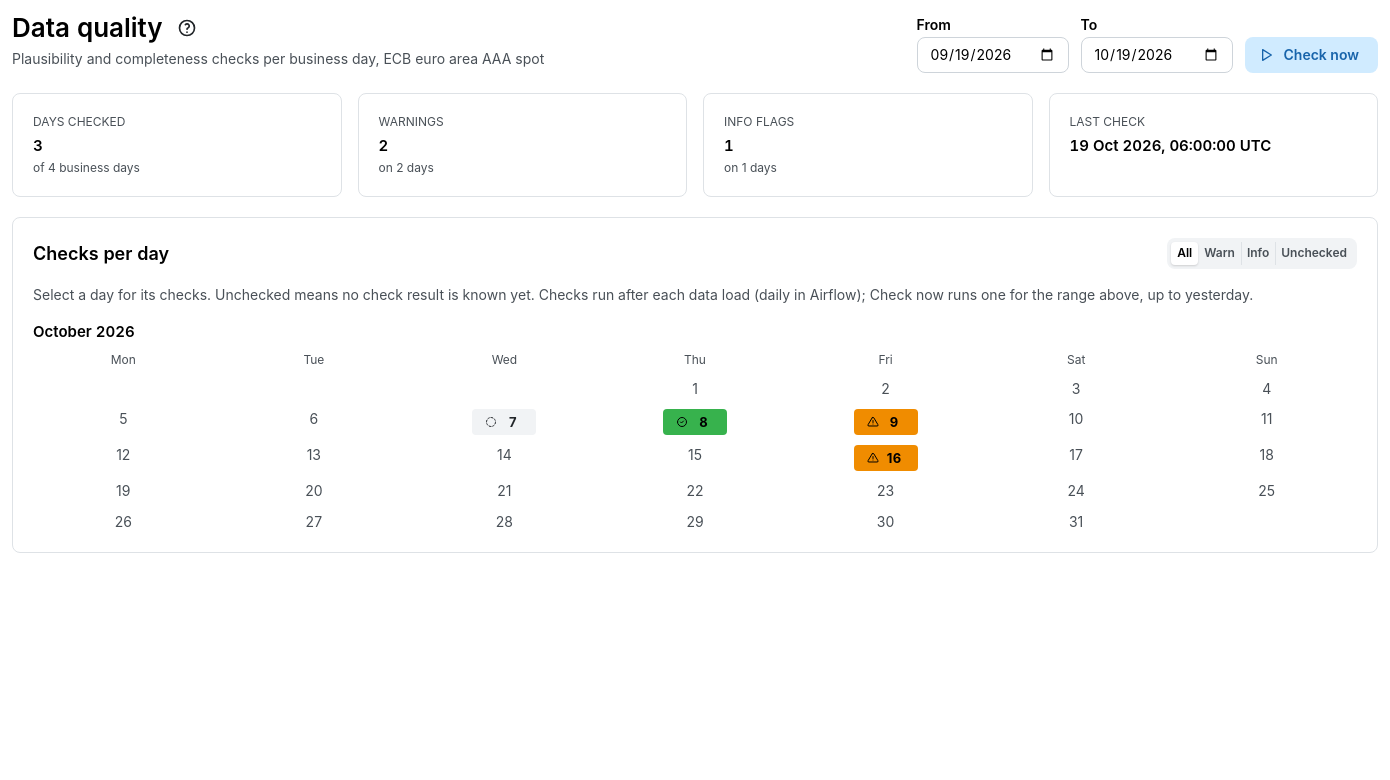
Test: QualityView › filter Warn keeps warn days as badges; no match shows the filter empty state and Show all days restores
expect the button named "2026-10-16, Warn" is shown: met, box [854, 445, 918, 471]
Click the radio button labelled "Warn" at [1220, 253], box [1204, 245, 1235, 260]
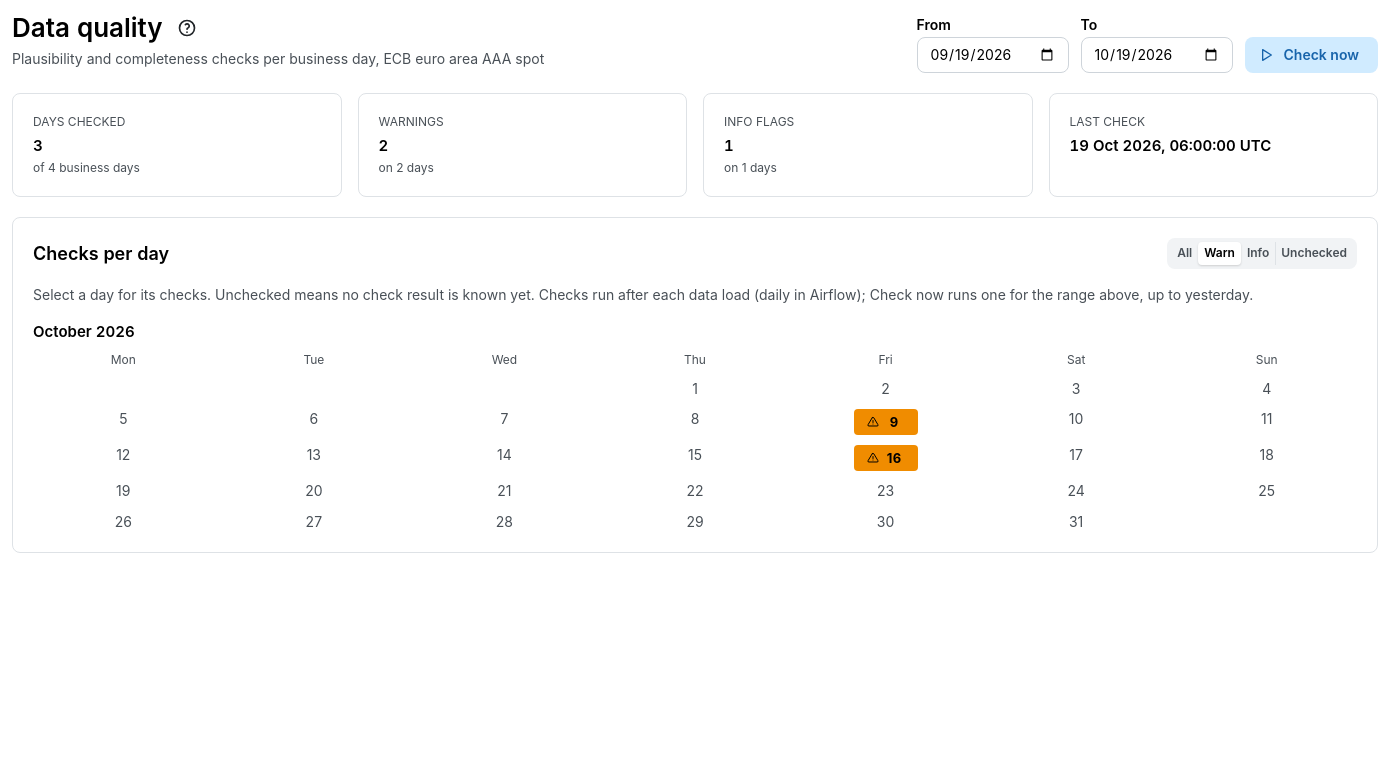
Click the radio button labelled "Info" at [1258, 253], box [1247, 245, 1269, 260]
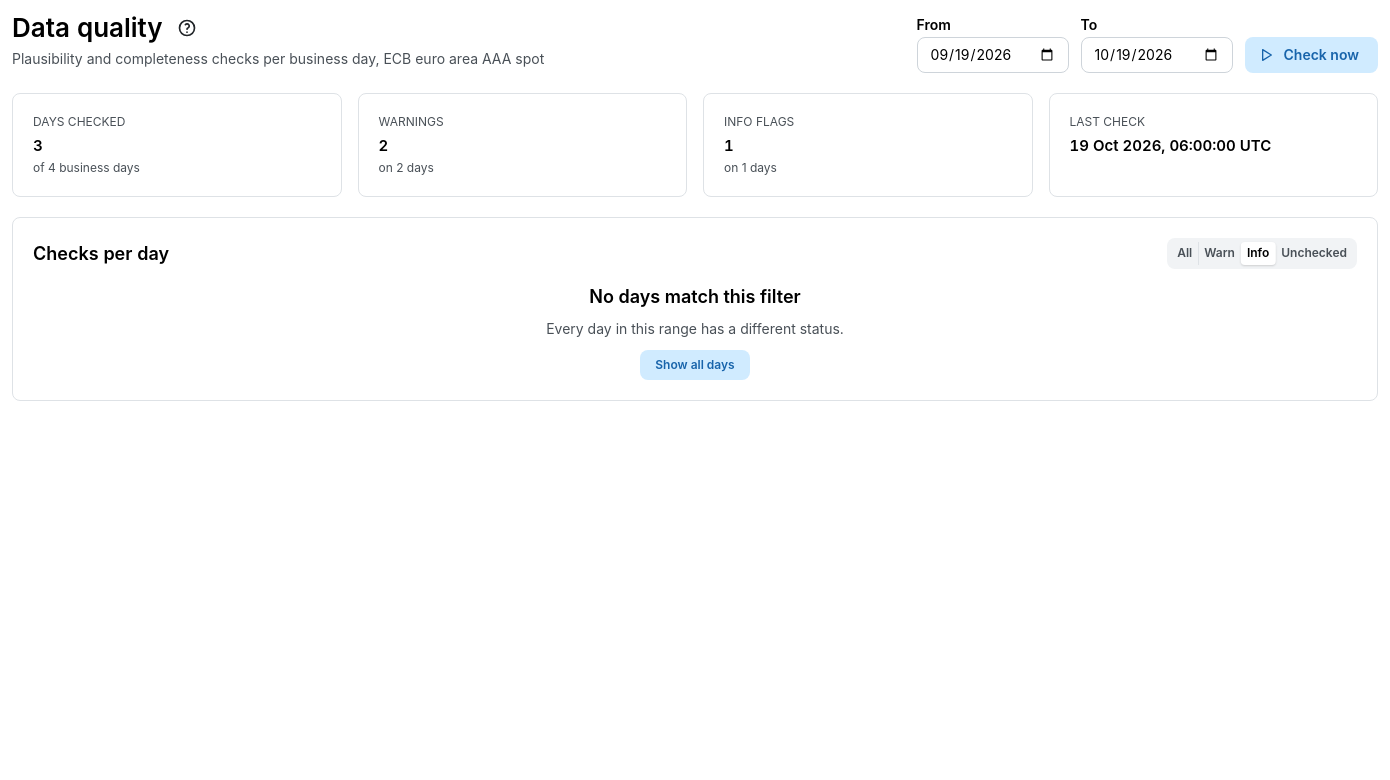
expect the message shows "No days match this filter": met, box [589, 286, 801, 307]
Click the button "Show all days" at [695, 365], box [640, 350, 750, 380]
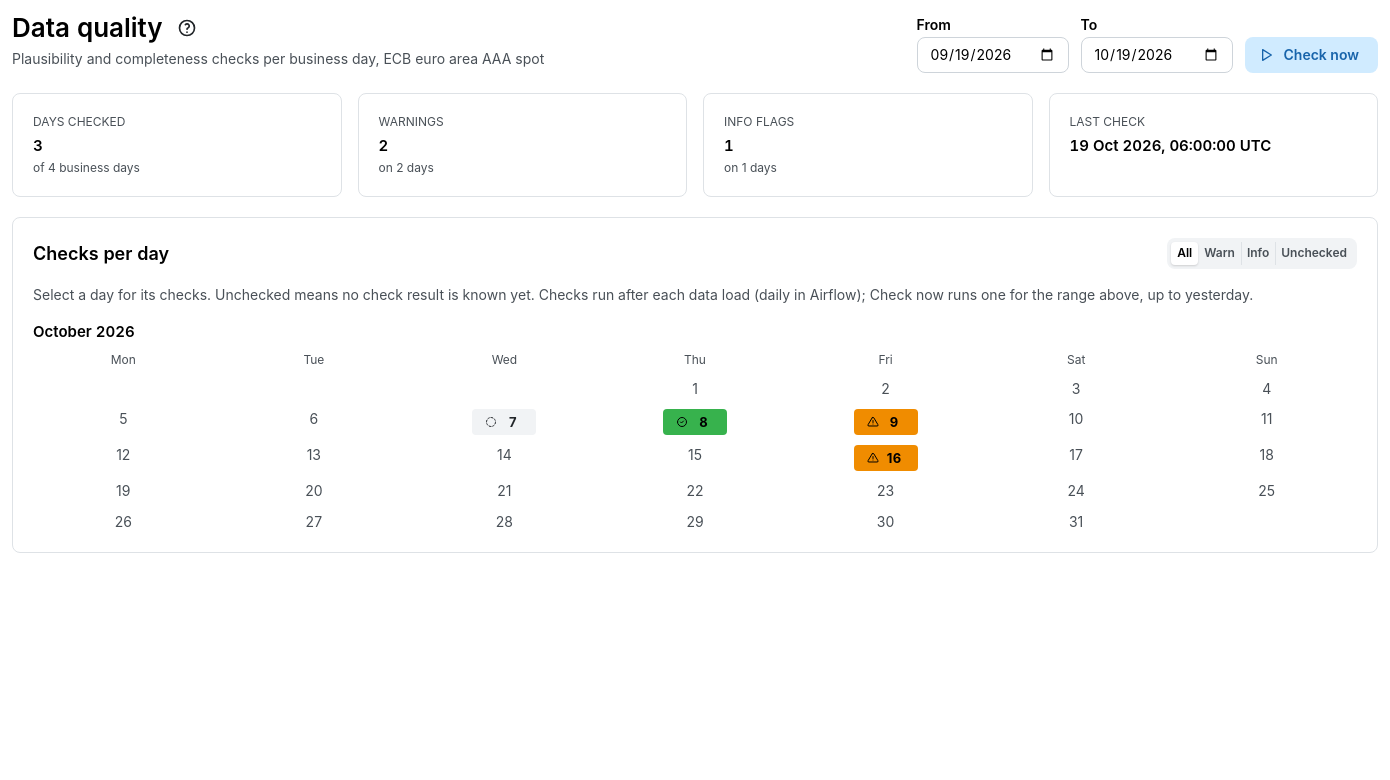
expect the radio button labelled "All" is checked: met, box [1177, 245, 1192, 260]
expect the number of buttons "7" is 4: met, box [472, 409, 536, 435]; [663, 409, 727, 435]; [854, 409, 918, 435]; [854, 445, 918, 471]
